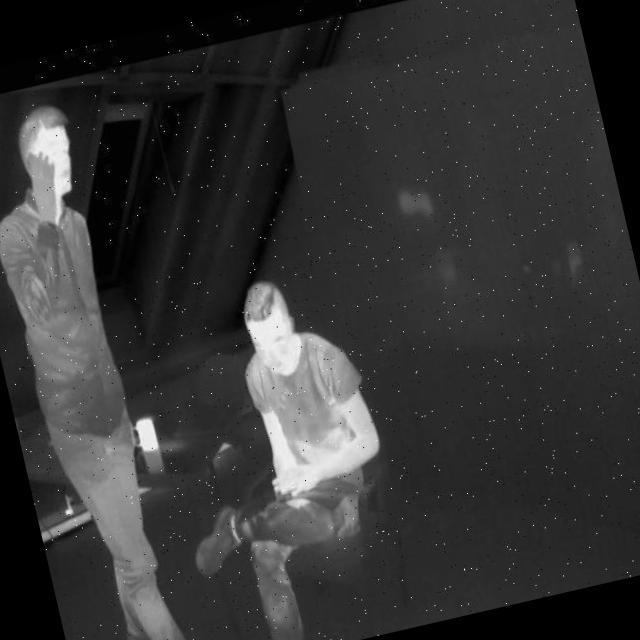person: (132, 258, 424, 640), (0, 106, 200, 640)
